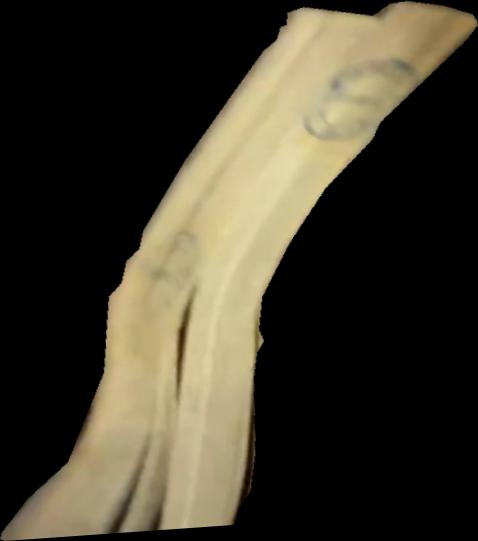backward: (1, 1, 478, 541)
